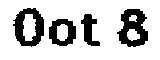0: (10, 4, 46, 55)
8: (114, 5, 151, 52)
o: (48, 18, 76, 48)
t: (80, 10, 104, 52)
